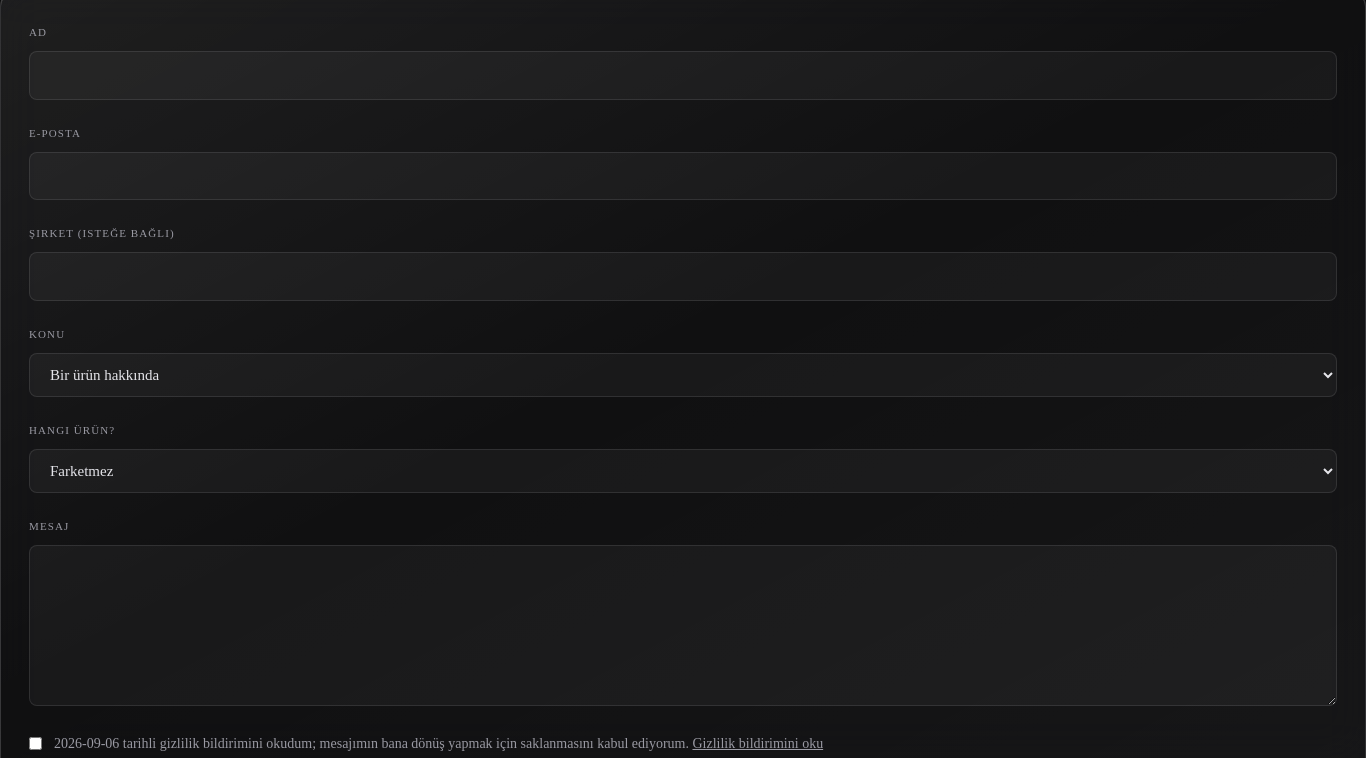
Test: Studio rollback inside the general contact form › removes the Studio option, defaults to product, and submits successfully
Expected: the dropdown labelled "Konu" shows "Bir ürün hakkında", [29,352,1337,396]
Type "Ada" into the field labelled "Ad".
click(683, 75); type("Ada")  # box [29,51,1337,100]
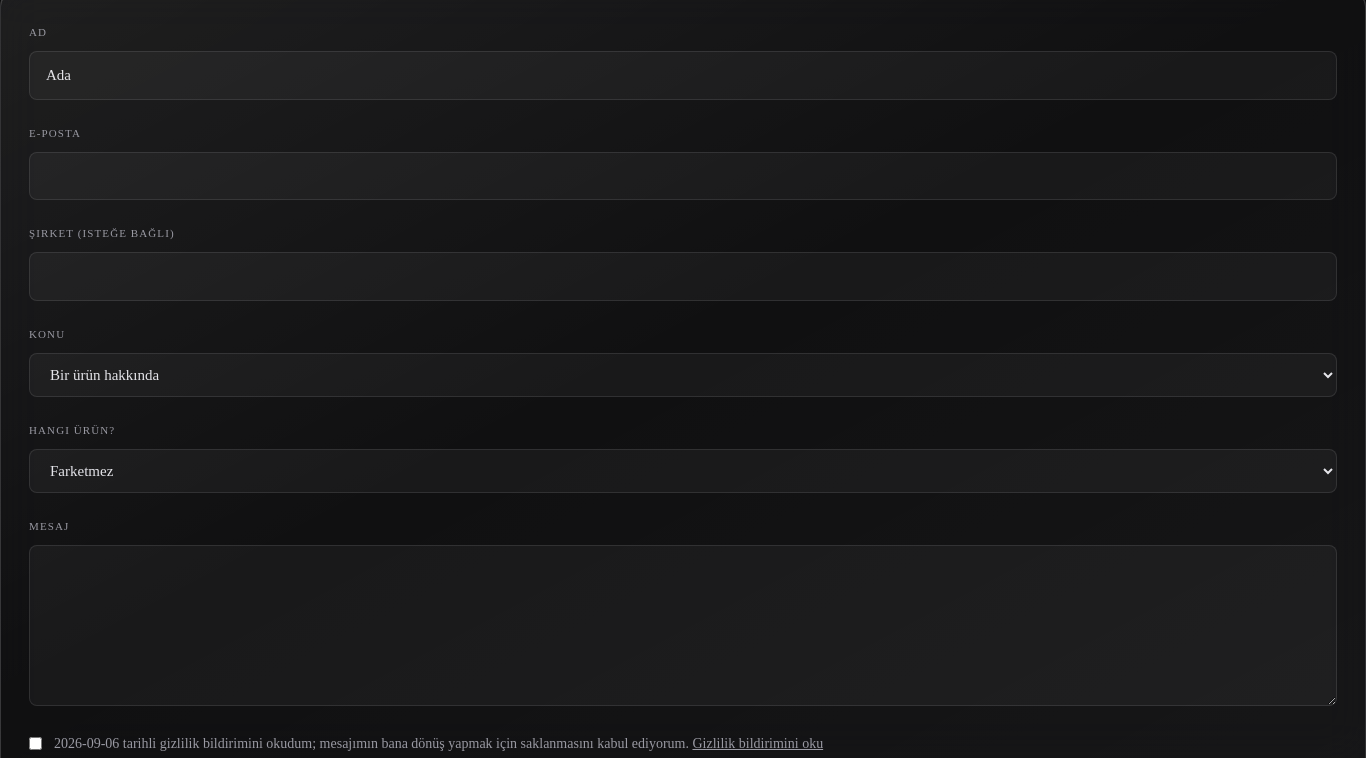
Type "ada@example.com" into the field labelled "E-posta".
click(683, 176); type("ada@example.com")  # box [29,152,1337,200]
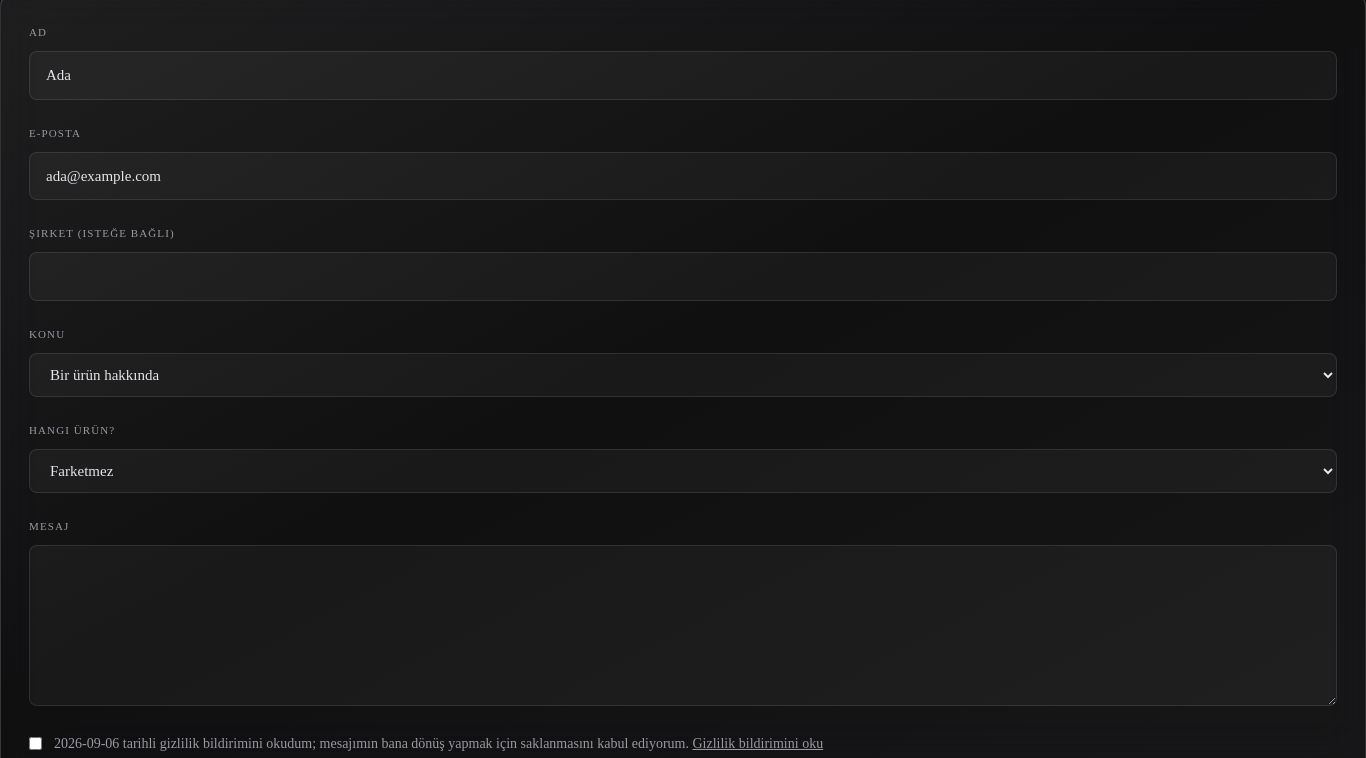
Type "merhaba" into the text box labelled "Mesaj".
click(683, 625); type("merhaba")  # box [29,544,1337,706]
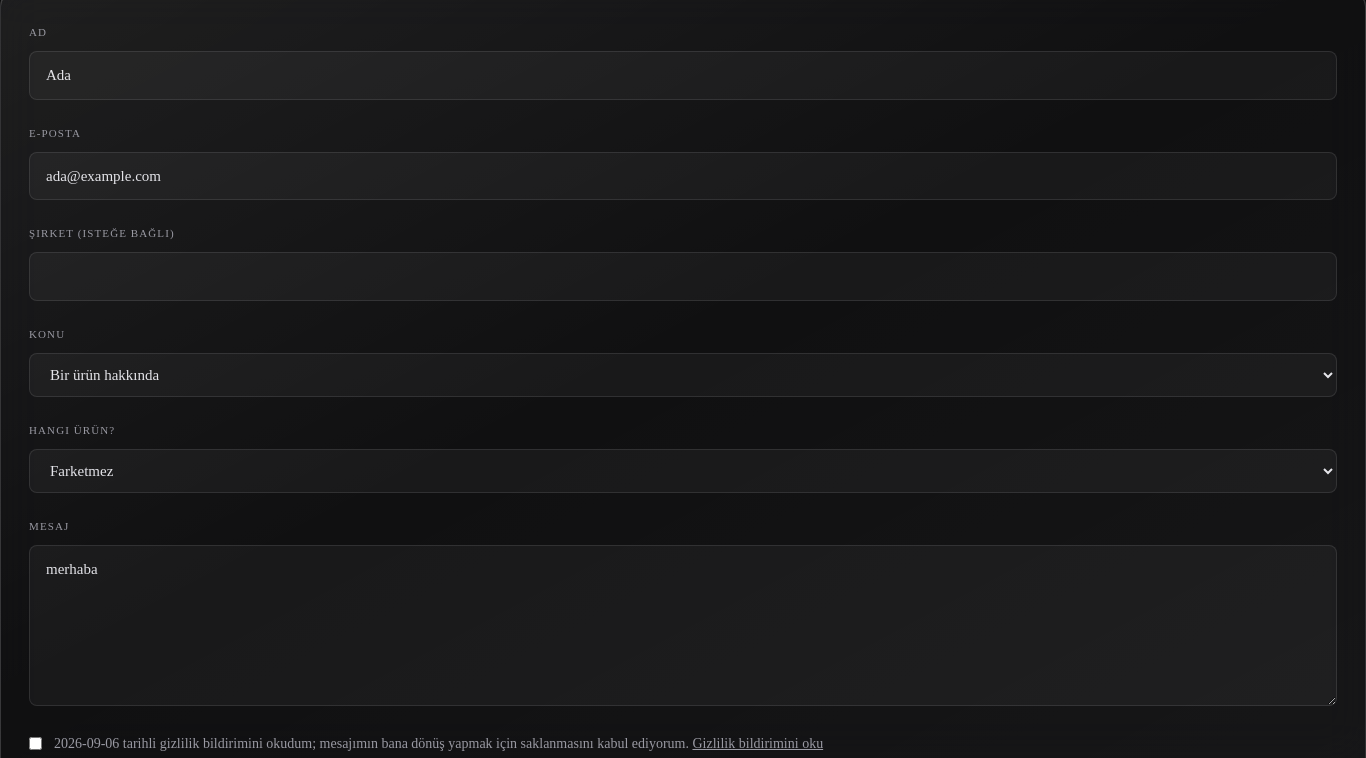
Click the checkbox.
click(36, 743)  # box [29,736,42,750]
(page scrolled)
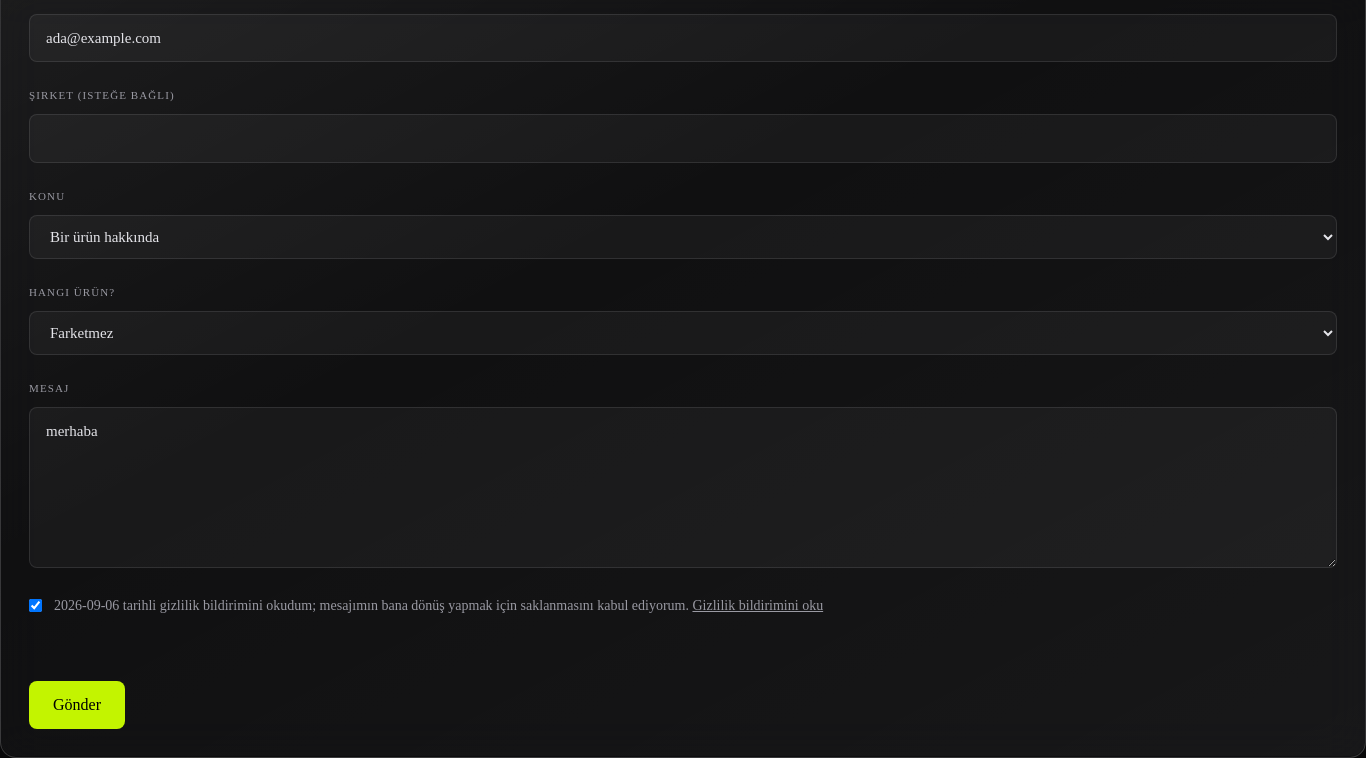
Submit the form from the button "Gönder", box [29,681,125,729]
(page scrolled)
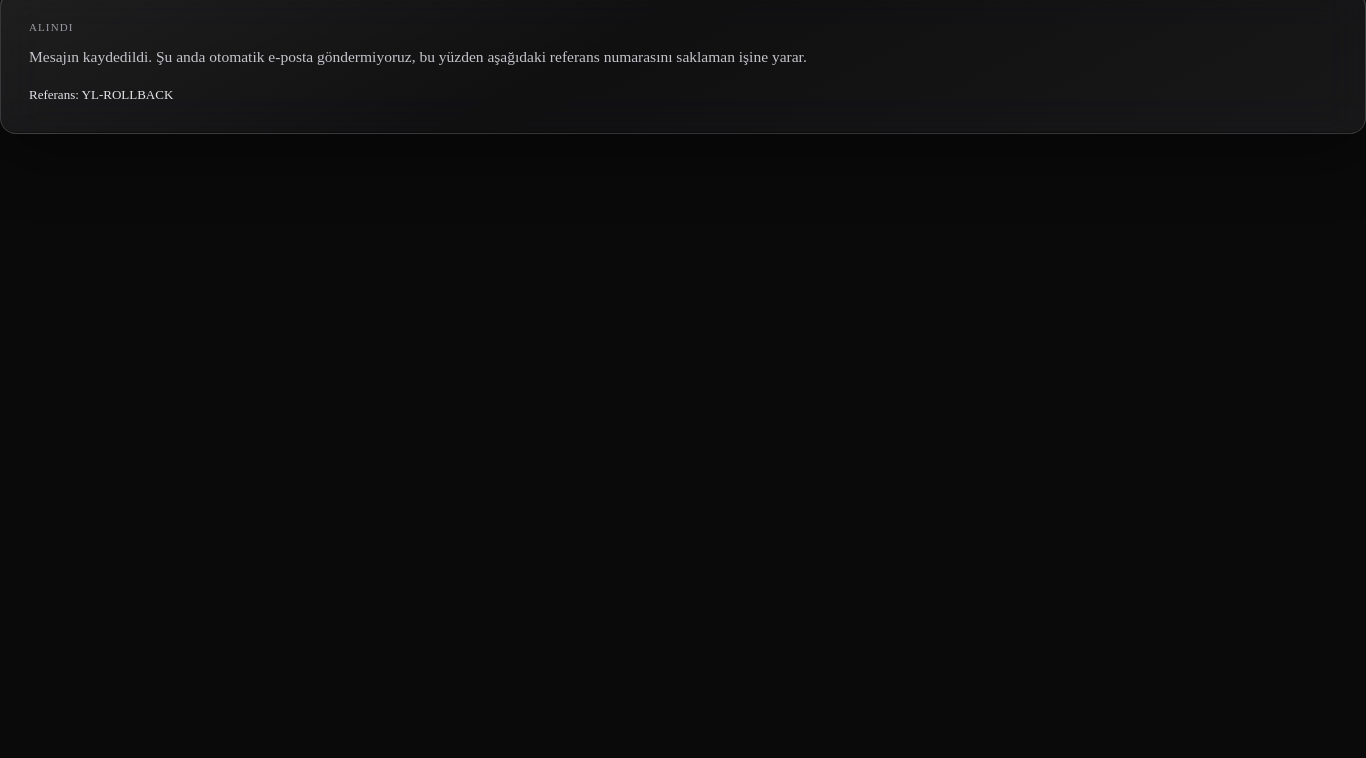
Now the text "Referans: YL-ROLLBACK" is shown, box [29,87,173,102]
